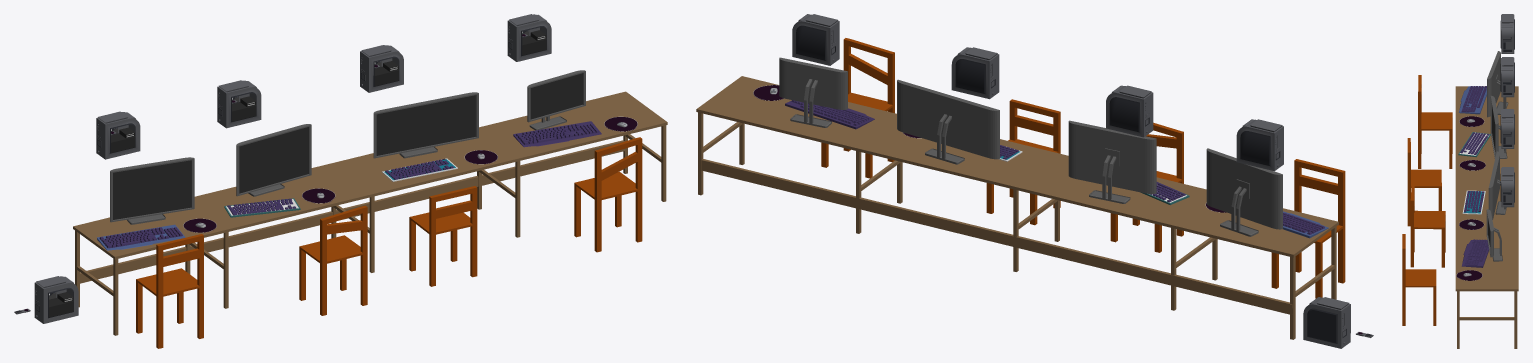
The model's file is DefaultPC.fbx.
3 renders of one model, left to right at view 1: azimuth 30°, elevation 25°; view 2: azimuth 150°, elevation 25°; view 3: azimuth 270°, elevation 25°, orthographic. The views are drawn at different scales.
Parts seen in each view (by area): view 1: Cube.212, Cube.207, Cube.435, Cube.211, Cube.199, Cube.216, Cube, Cube.213, Cube.214, Cube.210, Cube.011, Cube.001 (+7 smaller); view 2: Cube.212, Cube.435, Cube.207, Cube.199, Cube.211, Cube.210, Cube, Cube.216, Cube.010, Cube.009, Cube.011, Cube.001 (+5 smaller); view 3: Cube.212, Cube.214, Cube, Cube.216, Cube.213, Cube.211, Cube.092, Cube.207, Cube.298, Cube.009, Cube.011, Cube.010 (+12 smaller).
Part boxes in pixels (left/top/right/bottom): Cube.212: left=73, top=91, right=667, bottom=259; Cube.207: left=373, top=92, right=478, bottom=158; Cube.435: left=80, top=140, right=624, bottom=283; Cube.211: left=110, top=157, right=194, bottom=224; Cube.199: left=236, top=124, right=311, bottom=196; Cube.216: left=574, top=137, right=642, bottom=252; Cube: left=136, top=234, right=203, bottom=348; Cube.213: left=299, top=205, right=367, bottom=315; Cube.214: left=409, top=186, right=477, bottom=286; Cube.210: left=527, top=70, right=585, bottom=130; Cube.011: left=507, top=14, right=551, bottom=61; Cube.001: left=34, top=276, right=78, bottom=323; Cube.212: left=696, top=76, right=1338, bottom=257; Cube.435: left=701, top=159, right=1292, bottom=314; Cube.207: left=897, top=79, right=999, bottom=164; Cube.199: left=1068, top=120, right=1156, bottom=203; Cube.211: left=1206, top=148, right=1282, bottom=236; Cube.210: left=779, top=57, right=847, bottom=127; Cube: left=1271, top=159, right=1345, bottom=298; Cube.216: left=821, top=38, right=894, bottom=178; Cube.010: left=951, top=47, right=999, bottom=99; Cube.009: left=1106, top=85, right=1153, bottom=137; Cube.011: left=792, top=14, right=839, bottom=65; Cube.001: left=1303, top=297, right=1350, bottom=348; Cube.212: left=1455, top=86, right=1518, bottom=291; Cube.214: left=1410, top=184, right=1445, bottom=267; Cube: left=1418, top=75, right=1452, bottom=168; Cube.216: left=1402, top=234, right=1436, bottom=325; Cube.213: left=1407, top=138, right=1441, bottom=226; Cube.211: left=1487, top=51, right=1508, bottom=117; Cube.092: left=1459, top=86, right=1486, bottom=114; Cube.207: left=1488, top=151, right=1506, bottom=219; Cube.298: left=1461, top=239, right=1488, bottom=267; Cube.009: left=1500, top=57, right=1514, bottom=97; Cube.011: left=1500, top=167, right=1514, bottom=207; Cube.010: left=1500, top=109, right=1514, bottom=148.
Size of the model in its own units: 4246 by 1240 by 921.
